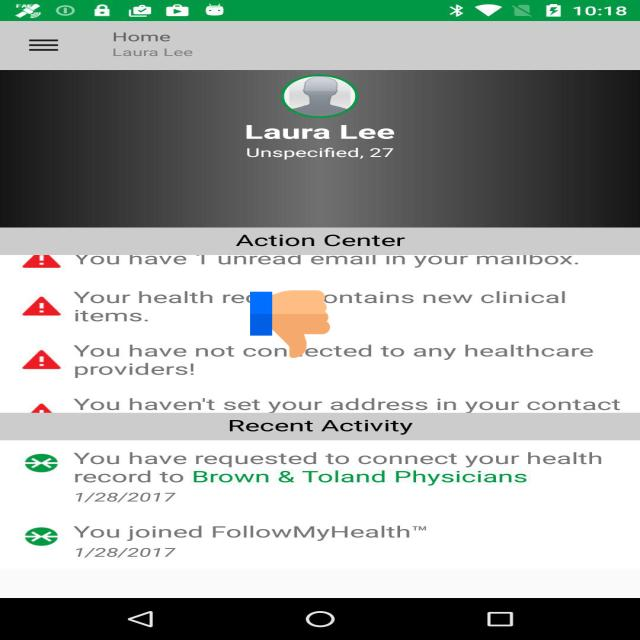obstruction: (250, 288, 330, 359)
